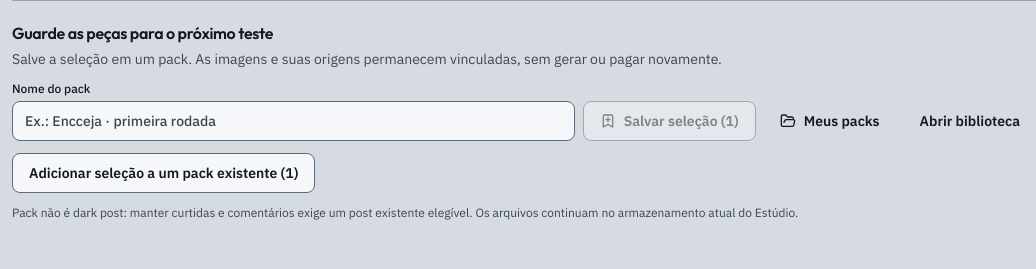
Test: erro de persistência não vira pack salvo nem sucesso
This screenshot has width=1036, height=269.
Type "Teste" into the field labelled "Nome do pack".
click(293, 121); type("Teste")  # box [12,101,575,141]
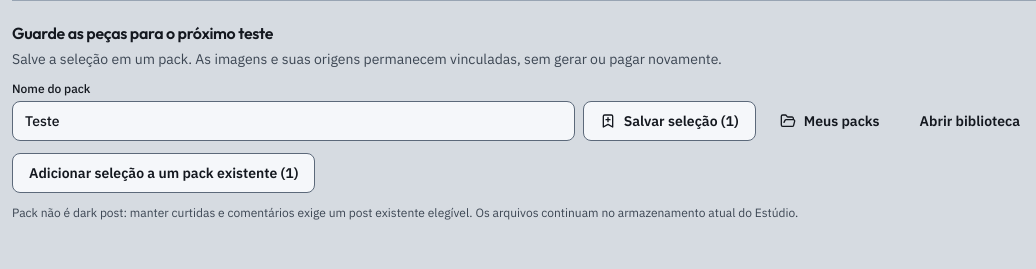
Click the button "Salvar seleção (1)".
click(669, 121)  # box [583,101,756,141]
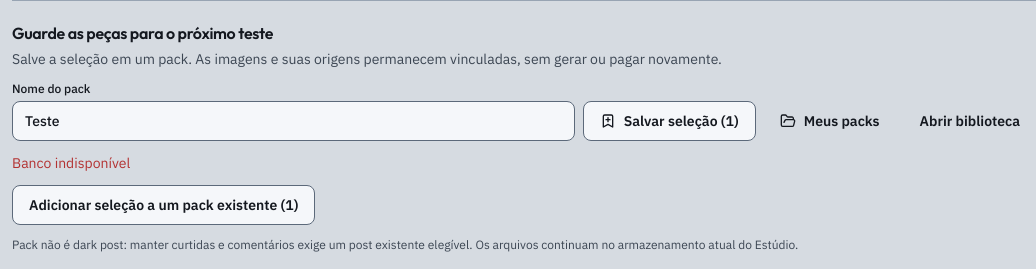
Expected: the message reads "Banco indisponível", [12,154,130,172]
